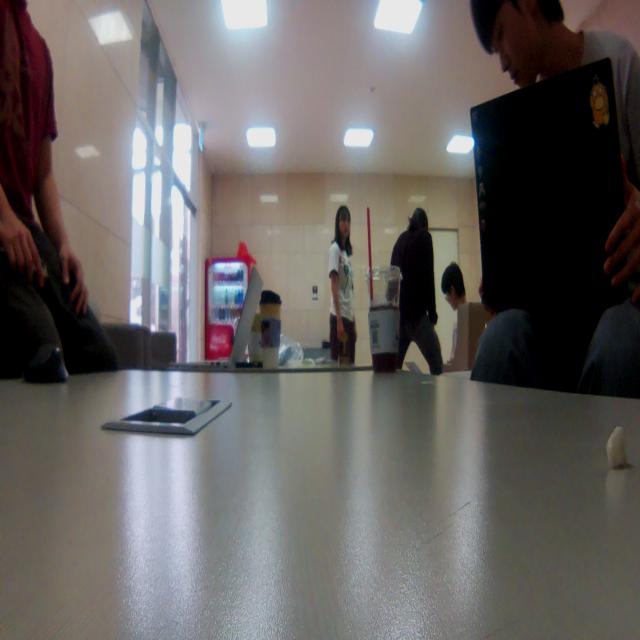target: (338, 327, 351, 371)
